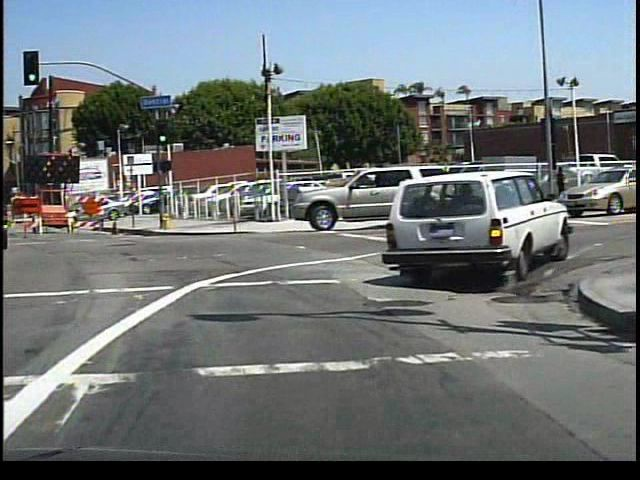person: (551, 161, 570, 205)
